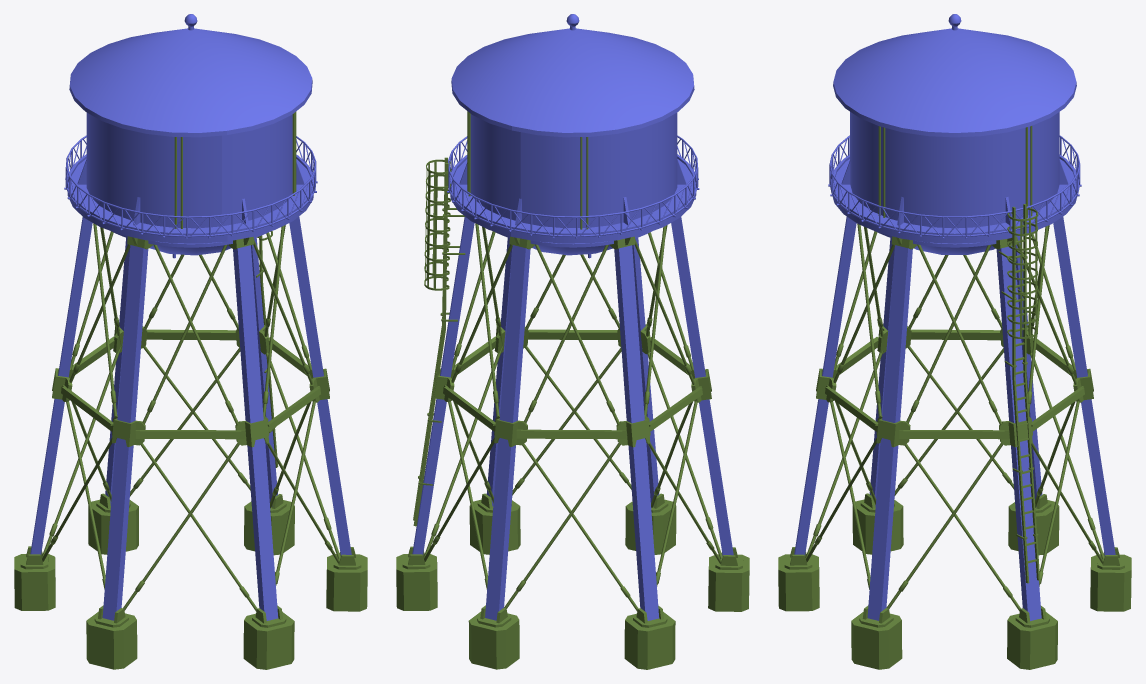
Rendered from Target_WaterTank.fbx.
3 views of the same model, side by side, from view 1: azimuth 30°, elevation 25°; view 2: azimuth 150°, elevation 25°; view 3: azimuth 270°, elevation 25° (orthographic).
Parts seen in each view (by area): view 1: water_tower_01; view 2: water_tower_01; view 3: water_tower_01.
Boxes of the visible parts, left/top/right/bottom form: water_tower_01: left=14, top=14, right=367, bottom=669; water_tower_01: left=396, top=14, right=749, bottom=669; water_tower_01: left=778, top=14, right=1131, bottom=669.
Size of the model in its own units: 1011 by 2043 by 1112.
